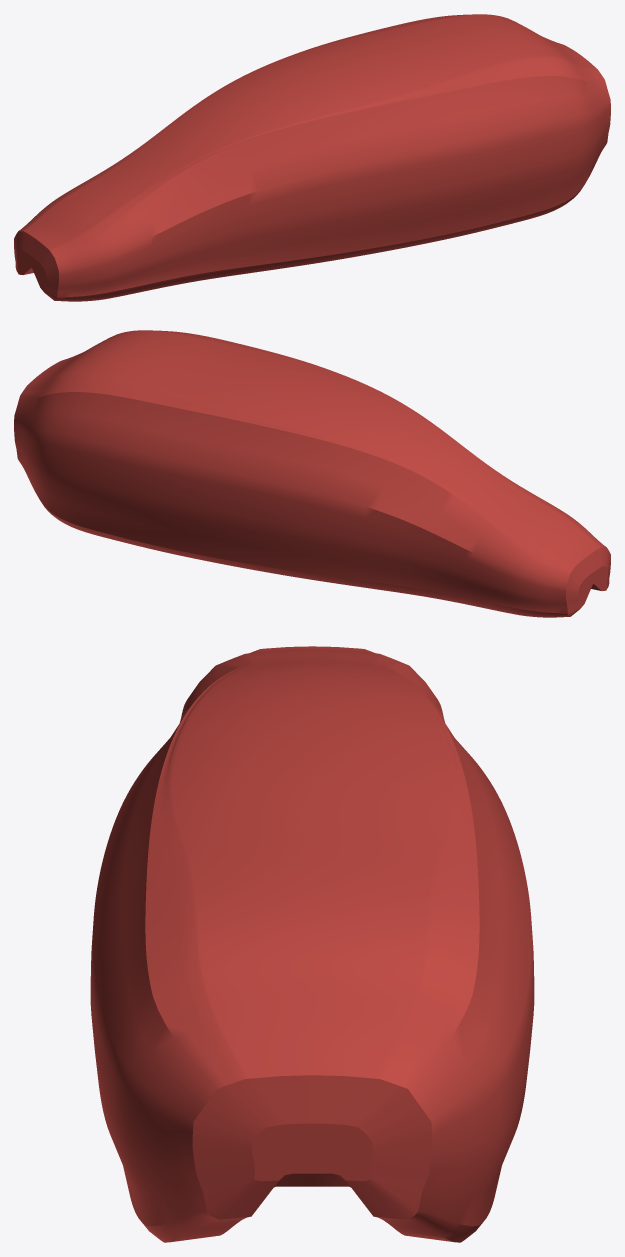
File: cruiser_1_lod1.glb
3 views of the same model, one above another, from view 1: azimuth 30°, elevation 25°; view 2: azimuth 150°, elevation 25°; view 3: azimuth 270°, elevation 25° (orthographic). The views are drawn at different scales.
Visible parts, largest first — view 1: cruiser_1_lod1; view 2: cruiser_1_lod1; view 3: cruiser_1_lod1.
Part boxes in pixels (x1,y1,x2,y2): cruiser_1_lod1: (14, 14, 610, 301); cruiser_1_lod1: (14, 330, 610, 617); cruiser_1_lod1: (90, 646, 534, 1242).
Bounding box in the file's own units: 1.06 × 0.2876 × 0.3694.
